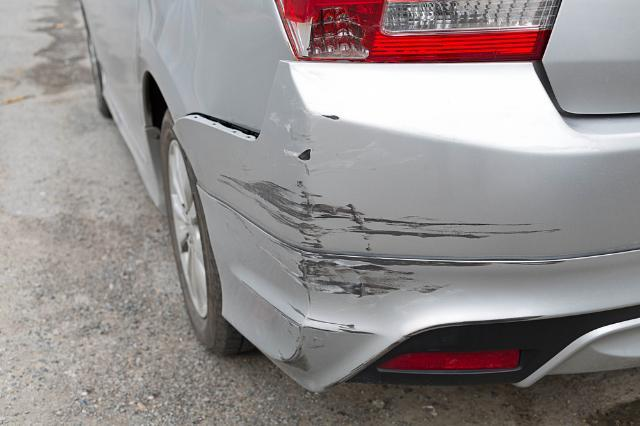lamp broken: (277, 0, 562, 61)
scratch: (216, 103, 578, 374)
